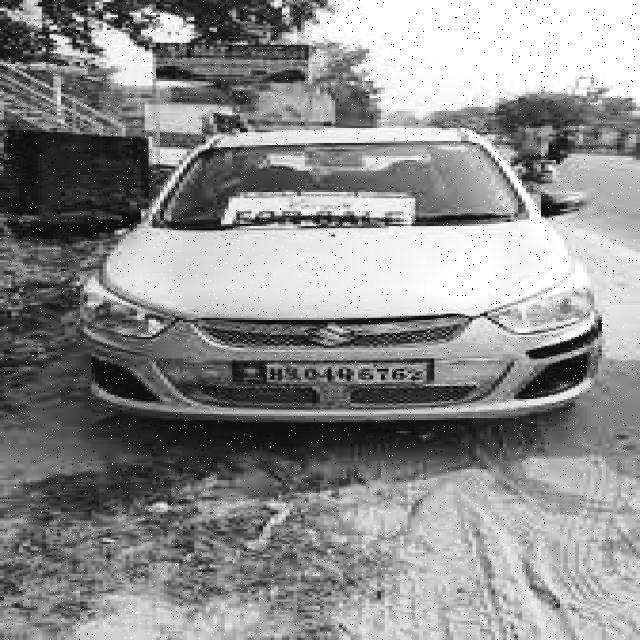Car: (58, 117, 618, 431)
